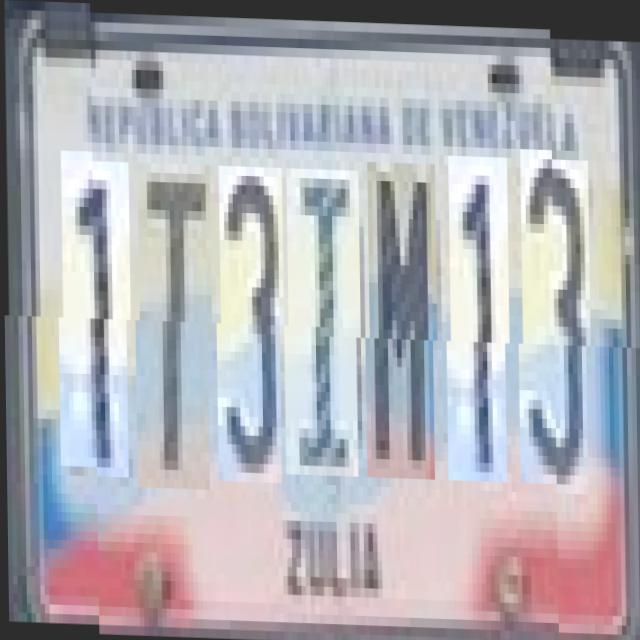1: (60, 160, 132, 476), (448, 152, 510, 478)
3: (520, 145, 591, 481), (218, 164, 285, 481)
I: (286, 166, 362, 474)
M: (367, 159, 438, 476)
T: (137, 162, 213, 488)
